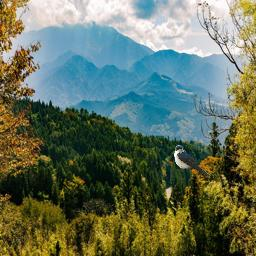Swallow: (174, 145, 211, 177)
